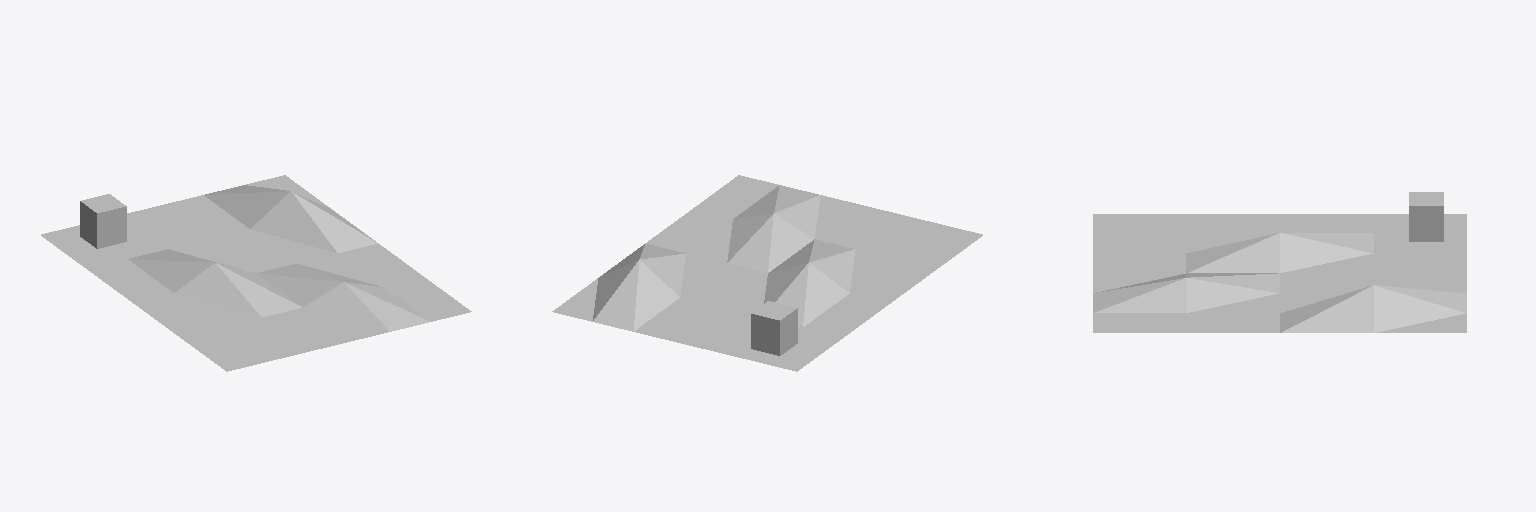
File: ProvisionalGround.obj
3 views of the same model, side by side, from view 1: azimuth 30°, elevation 25°; view 2: azimuth 150°, elevation 25°; view 3: azimuth 270°, elevation 25° (orthographic).
Parts seen in each view (by area): view 1: Plane; view 2: Plane; view 3: Plane.
Boxes of the visible parts, x1,y1,x2,y2 form: Plane: [41, 175, 471, 371]; Plane: [552, 175, 982, 371]; Plane: [1093, 192, 1466, 332].
Bounding box in the file's own units: 114 × 16.21 × 151.